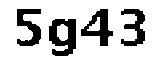3: (119, 5, 151, 53)
4: (78, 6, 116, 49)
5: (11, 5, 45, 49)
g: (46, 14, 81, 60)
